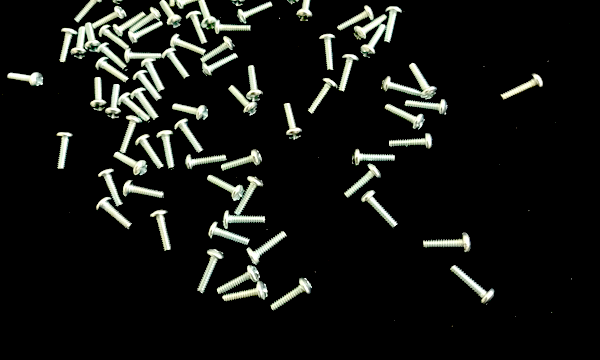shortscrew: (450, 265, 497, 307), (247, 231, 288, 269), (270, 277, 313, 313), (361, 190, 399, 230), (216, 266, 261, 297), (344, 164, 383, 199), (197, 249, 226, 295), (233, 176, 264, 217), (307, 77, 338, 117), (501, 73, 545, 100), (97, 197, 132, 230), (385, 104, 426, 132), (424, 232, 473, 255), (174, 119, 205, 155), (135, 134, 165, 171), (410, 63, 438, 101), (207, 174, 245, 202), (201, 52, 239, 80), (208, 222, 250, 247), (223, 281, 268, 304), (381, 75, 424, 99), (336, 6, 375, 32), (353, 13, 389, 41), (229, 85, 259, 118), (162, 48, 192, 81), (118, 93, 151, 123), (95, 56, 130, 84), (98, 169, 123, 208), (360, 24, 387, 60), (200, 36, 236, 63), (222, 150, 262, 174), (131, 87, 158, 121), (150, 209, 171, 252), (389, 133, 434, 153), (98, 42, 128, 72), (119, 116, 143, 153), (352, 148, 396, 168), (337, 55, 359, 95), (114, 152, 149, 177), (129, 21, 164, 46), (132, 71, 161, 101), (113, 12, 146, 38), (238, 2, 273, 26), (99, 25, 131, 51), (405, 99, 448, 118), (223, 210, 266, 229), (170, 34, 207, 56), (132, 7, 162, 34), (156, 131, 176, 171), (142, 58, 164, 94), (92, 6, 126, 29), (55, 133, 75, 172), (186, 11, 208, 46), (123, 180, 163, 199), (186, 155, 227, 173), (284, 103, 303, 141), (318, 34, 337, 72), (384, 6, 403, 44), (75, 0, 103, 25), (173, 103, 209, 122), (59, 28, 78, 64), (246, 66, 264, 103), (124, 48, 162, 65), (160, 0, 183, 28), (89, 77, 107, 112), (214, 20, 252, 36), (105, 85, 122, 119), (8, 73, 43, 89), (84, 22, 101, 53), (199, 0, 216, 30), (71, 27, 86, 60), (296, 0, 314, 23), (285, 0, 315, 8), (109, 0, 134, 6), (165, 0, 180, 8), (230, 0, 245, 7), (212, 0, 234, 2)
